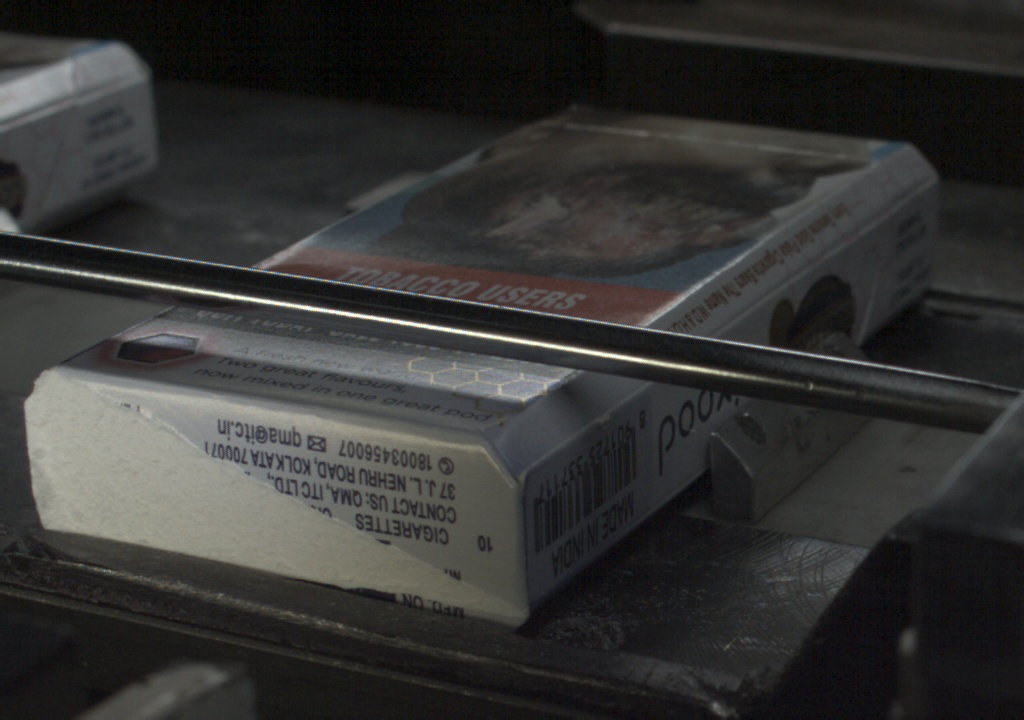g_lmiter: (714, 264, 807, 333), (808, 208, 885, 264), (581, 384, 647, 433), (522, 433, 581, 477)
g_miter: (893, 173, 934, 210)
ng_bottom: (24, 384, 176, 543), (328, 512, 518, 624), (166, 446, 326, 573)
